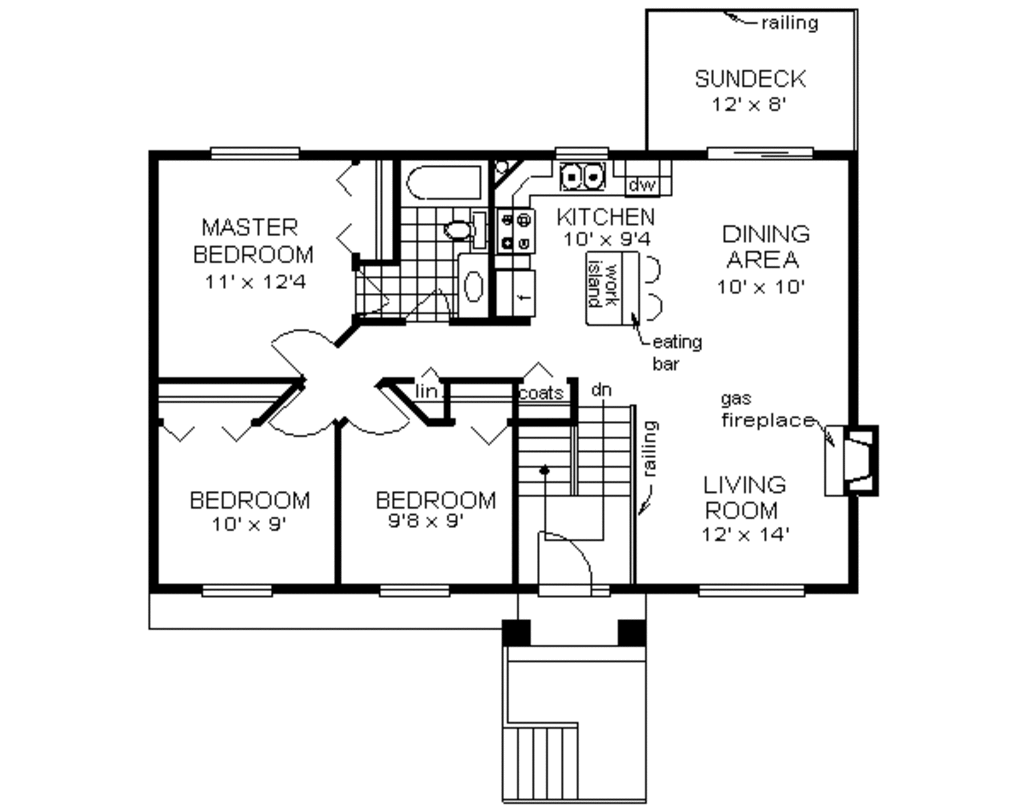door: (534, 520, 611, 601), (264, 317, 341, 388), (332, 379, 411, 442), (259, 388, 341, 444)
kitchen_bar: (579, 242, 663, 335)
large_sink: (427, 201, 488, 253)
small_sink: (447, 253, 490, 316)
stairs: (512, 404, 638, 581), (506, 643, 643, 799)
tub: (397, 155, 486, 204)
twin_sink: (547, 154, 617, 197)
window: (695, 576, 806, 604), (200, 141, 306, 165), (201, 578, 286, 605), (378, 578, 467, 599), (710, 142, 818, 159)
